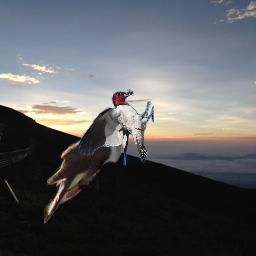Cuckoo: (44, 120, 134, 227)
Woodpecker: (78, 89, 154, 166)
